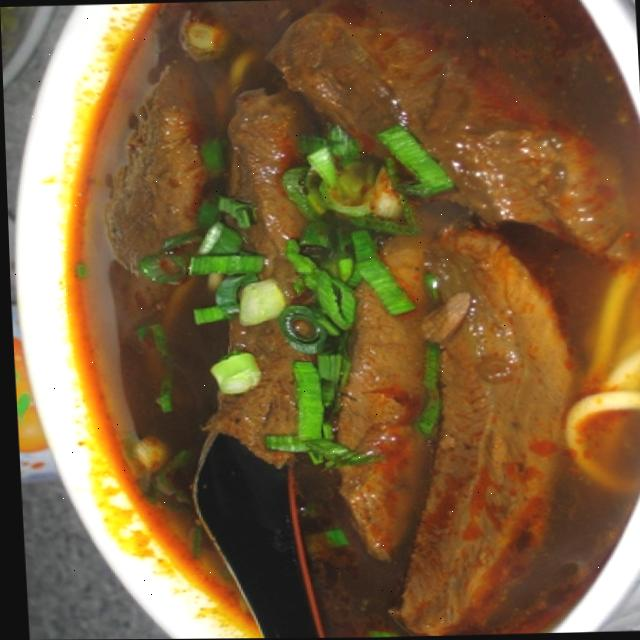面条主食: (53, 0, 640, 640)
